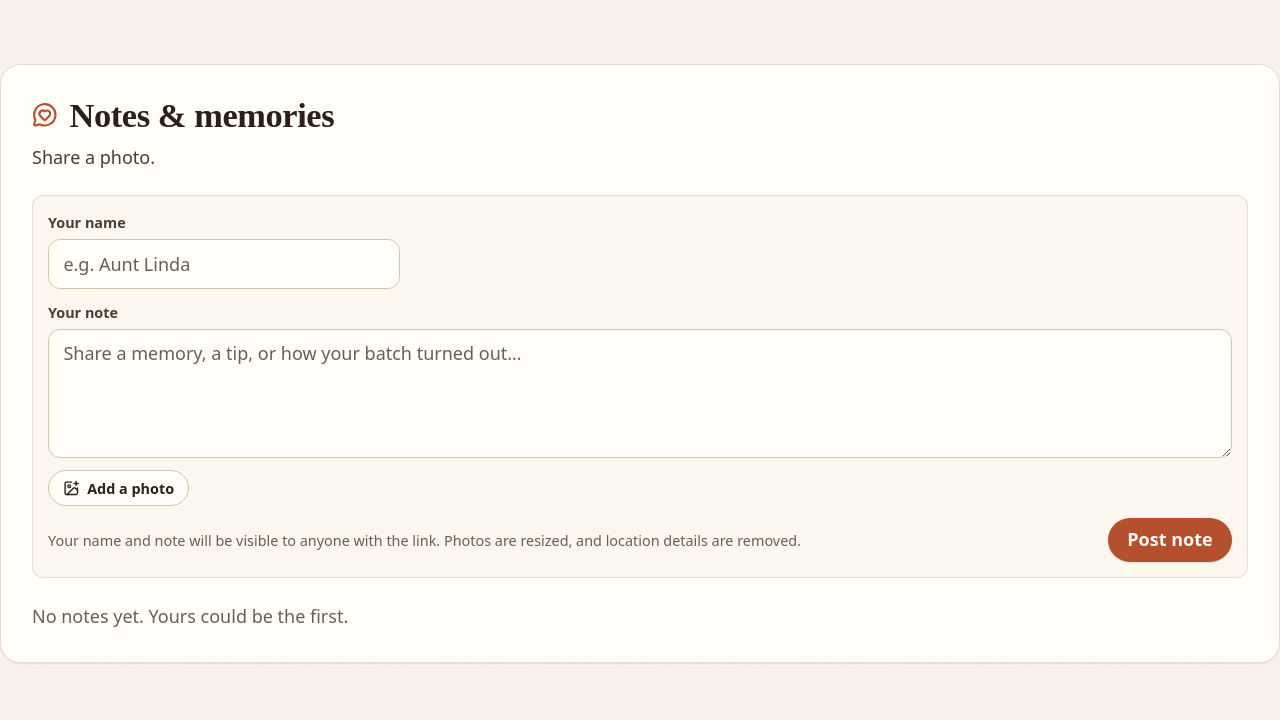
Test: adding a note with a photo › asks for a note or a photo
Type "Aunt Sue" into the field labelled "Your name" at [224, 264], box x1=48 y1=239 x2=400 y2=289
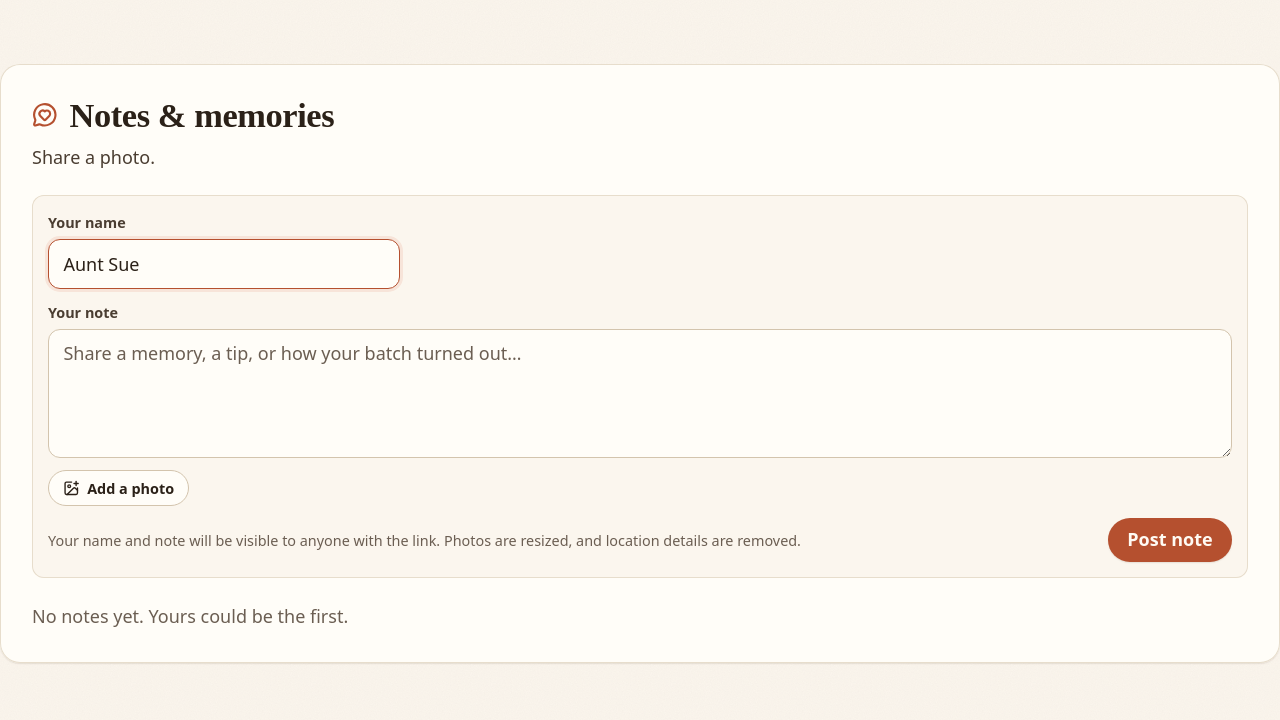
Click the button "Post note" at [1170, 540], box x1=1108 y1=518 x2=1232 y2=562
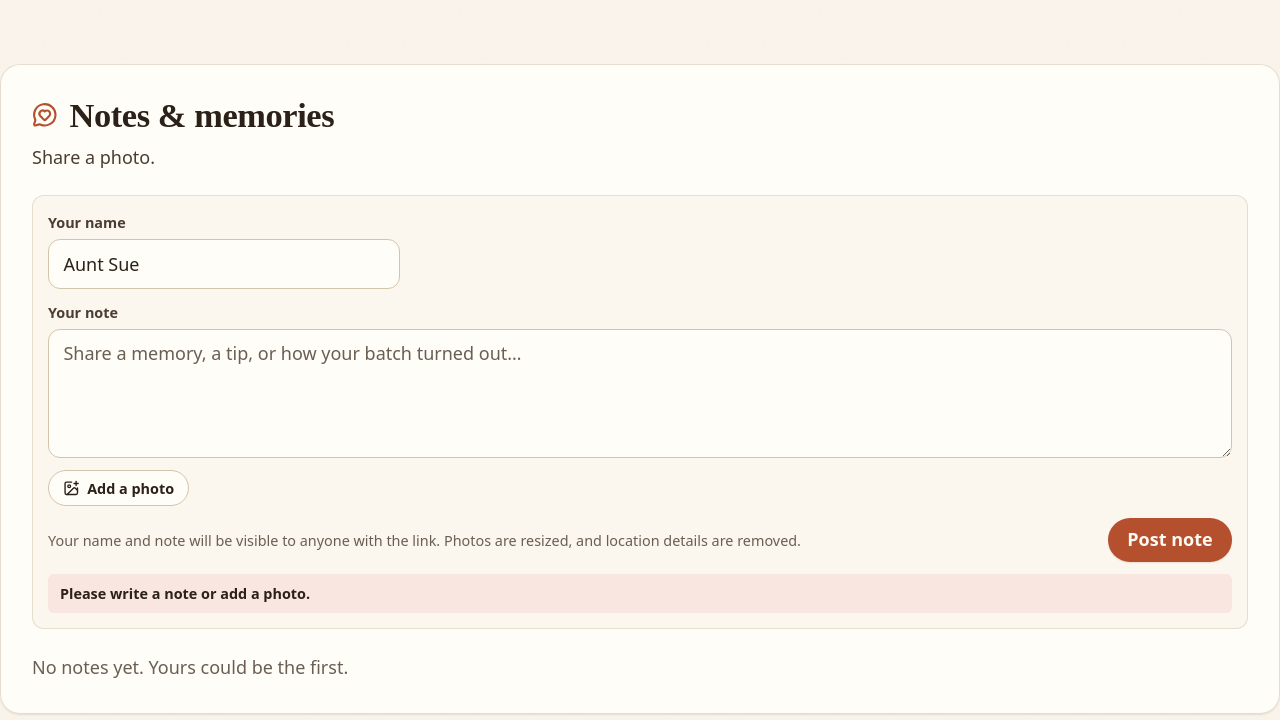
Expected: the message reads "Please write a note or add a photo.", x1=60 y1=584 x2=310 y2=603
